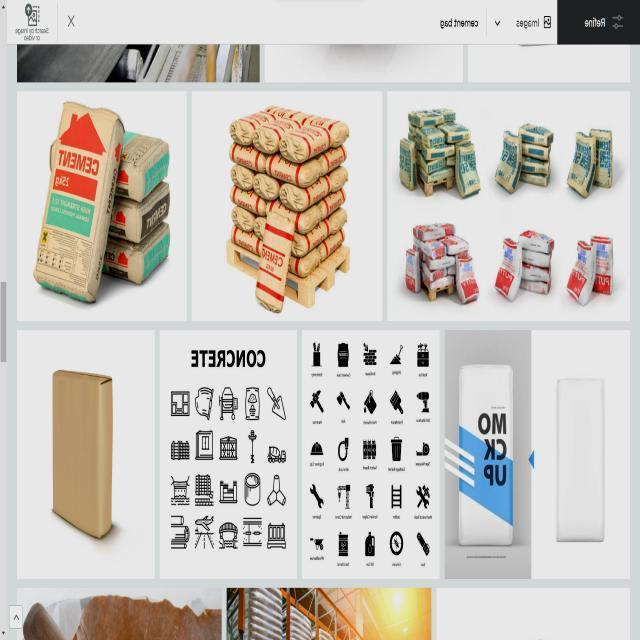gunny_bag: (32, 100, 124, 301), (101, 221, 169, 284), (255, 210, 294, 312), (115, 130, 169, 201), (108, 180, 169, 242), (279, 111, 349, 161), (264, 145, 346, 187), (279, 165, 348, 211), (229, 104, 295, 145), (279, 124, 332, 162), (568, 130, 598, 197), (265, 152, 320, 187), (567, 240, 597, 304), (495, 237, 523, 300), (252, 117, 300, 153), (496, 129, 522, 192), (291, 219, 330, 257), (456, 140, 481, 196), (591, 127, 613, 187), (592, 235, 614, 294), (456, 249, 480, 303), (229, 141, 267, 172), (229, 184, 267, 215), (400, 138, 417, 189), (520, 229, 555, 253), (519, 122, 554, 145), (413, 222, 456, 240), (420, 249, 456, 270), (414, 235, 446, 258), (408, 108, 445, 127), (416, 151, 446, 173), (406, 248, 421, 292), (416, 125, 445, 147), (522, 261, 552, 282), (413, 223, 446, 241), (522, 154, 551, 174), (522, 140, 552, 159), (522, 248, 552, 267), (520, 279, 552, 294), (520, 170, 551, 185)
